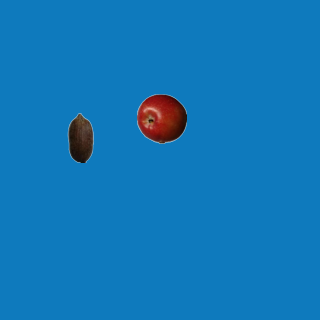Apple Braeburn: (136, 93, 186, 143)
Nut Pecan: (55, 112, 105, 162)
